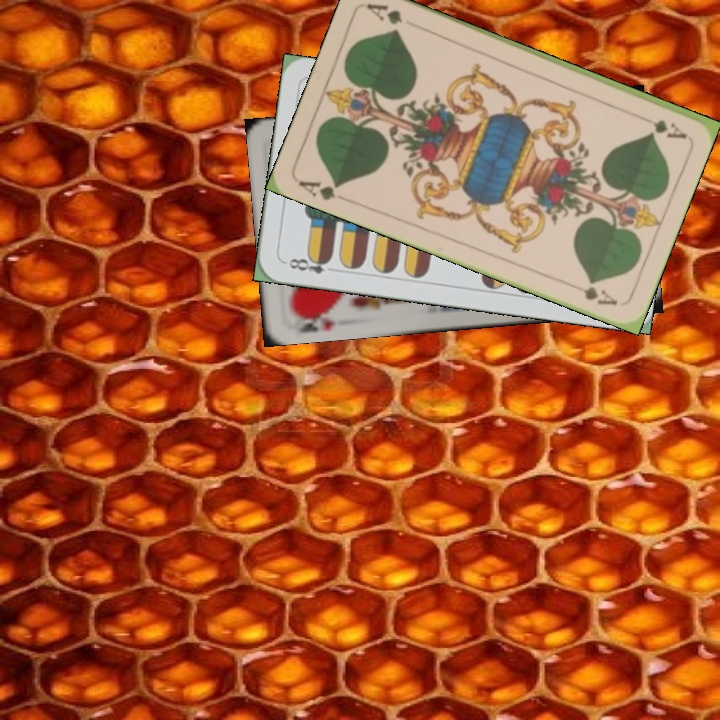E8: (280, 252, 339, 277)
GA: (632, 110, 689, 142), (294, 176, 352, 205)
HK: (288, 305, 338, 335)
